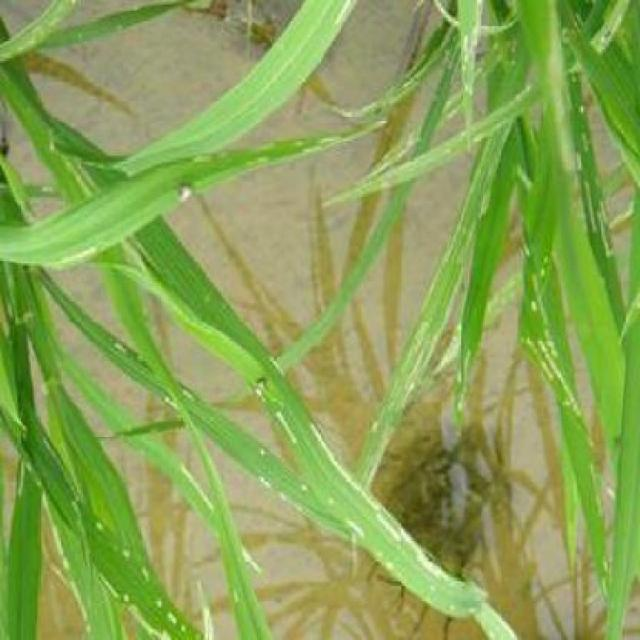rice-bug: (254, 369, 269, 394), (178, 180, 194, 203)
